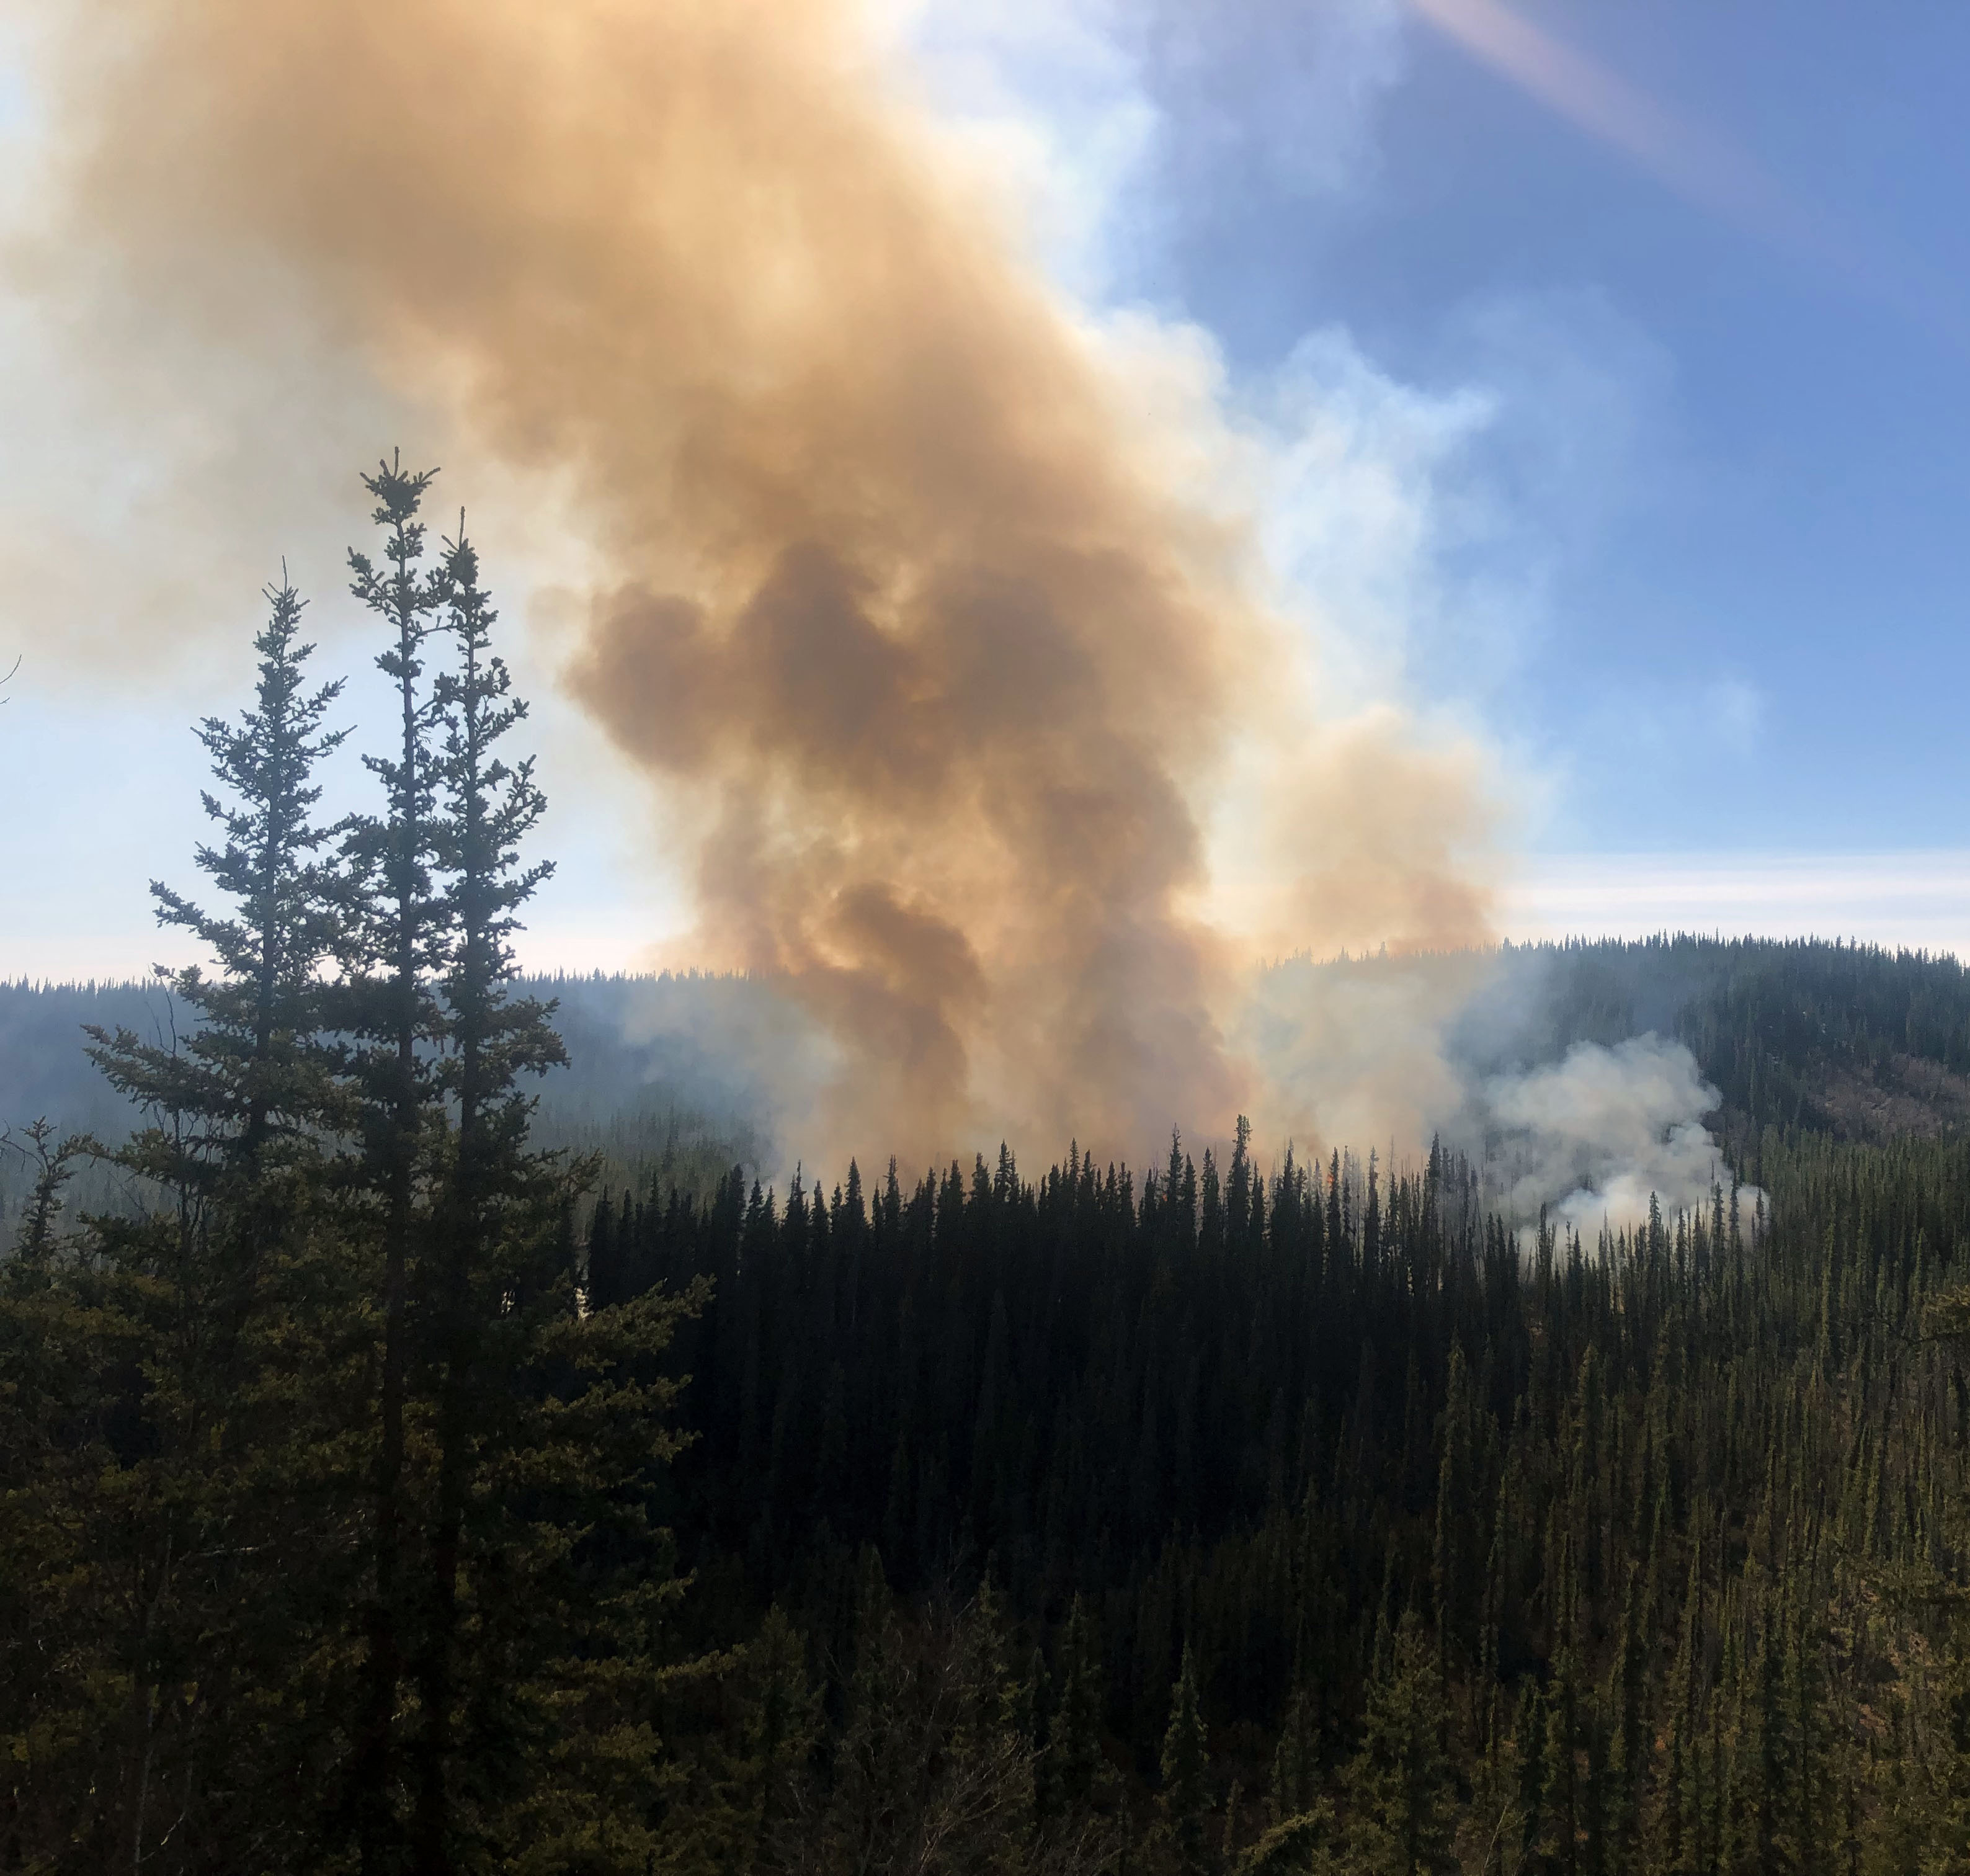fire: (640, 913, 1741, 1533)
